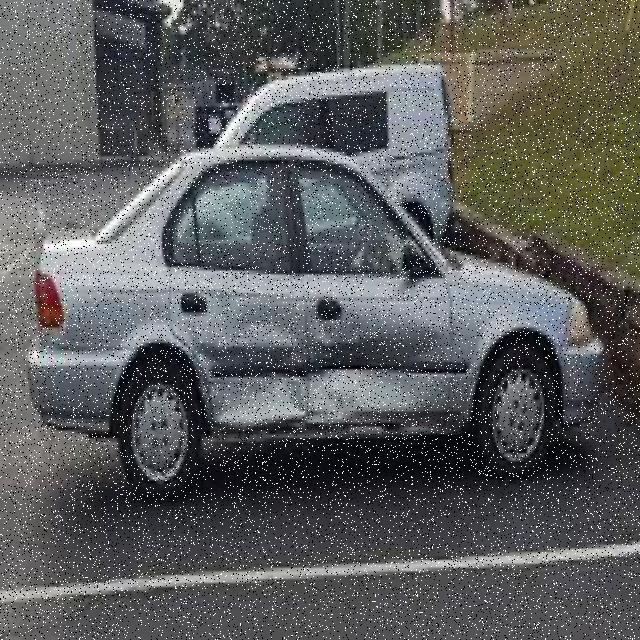RunningBoard-Dent: (311, 411, 448, 442), (207, 423, 312, 450)
doorouter-dent: (307, 263, 452, 419), (169, 265, 308, 418)
